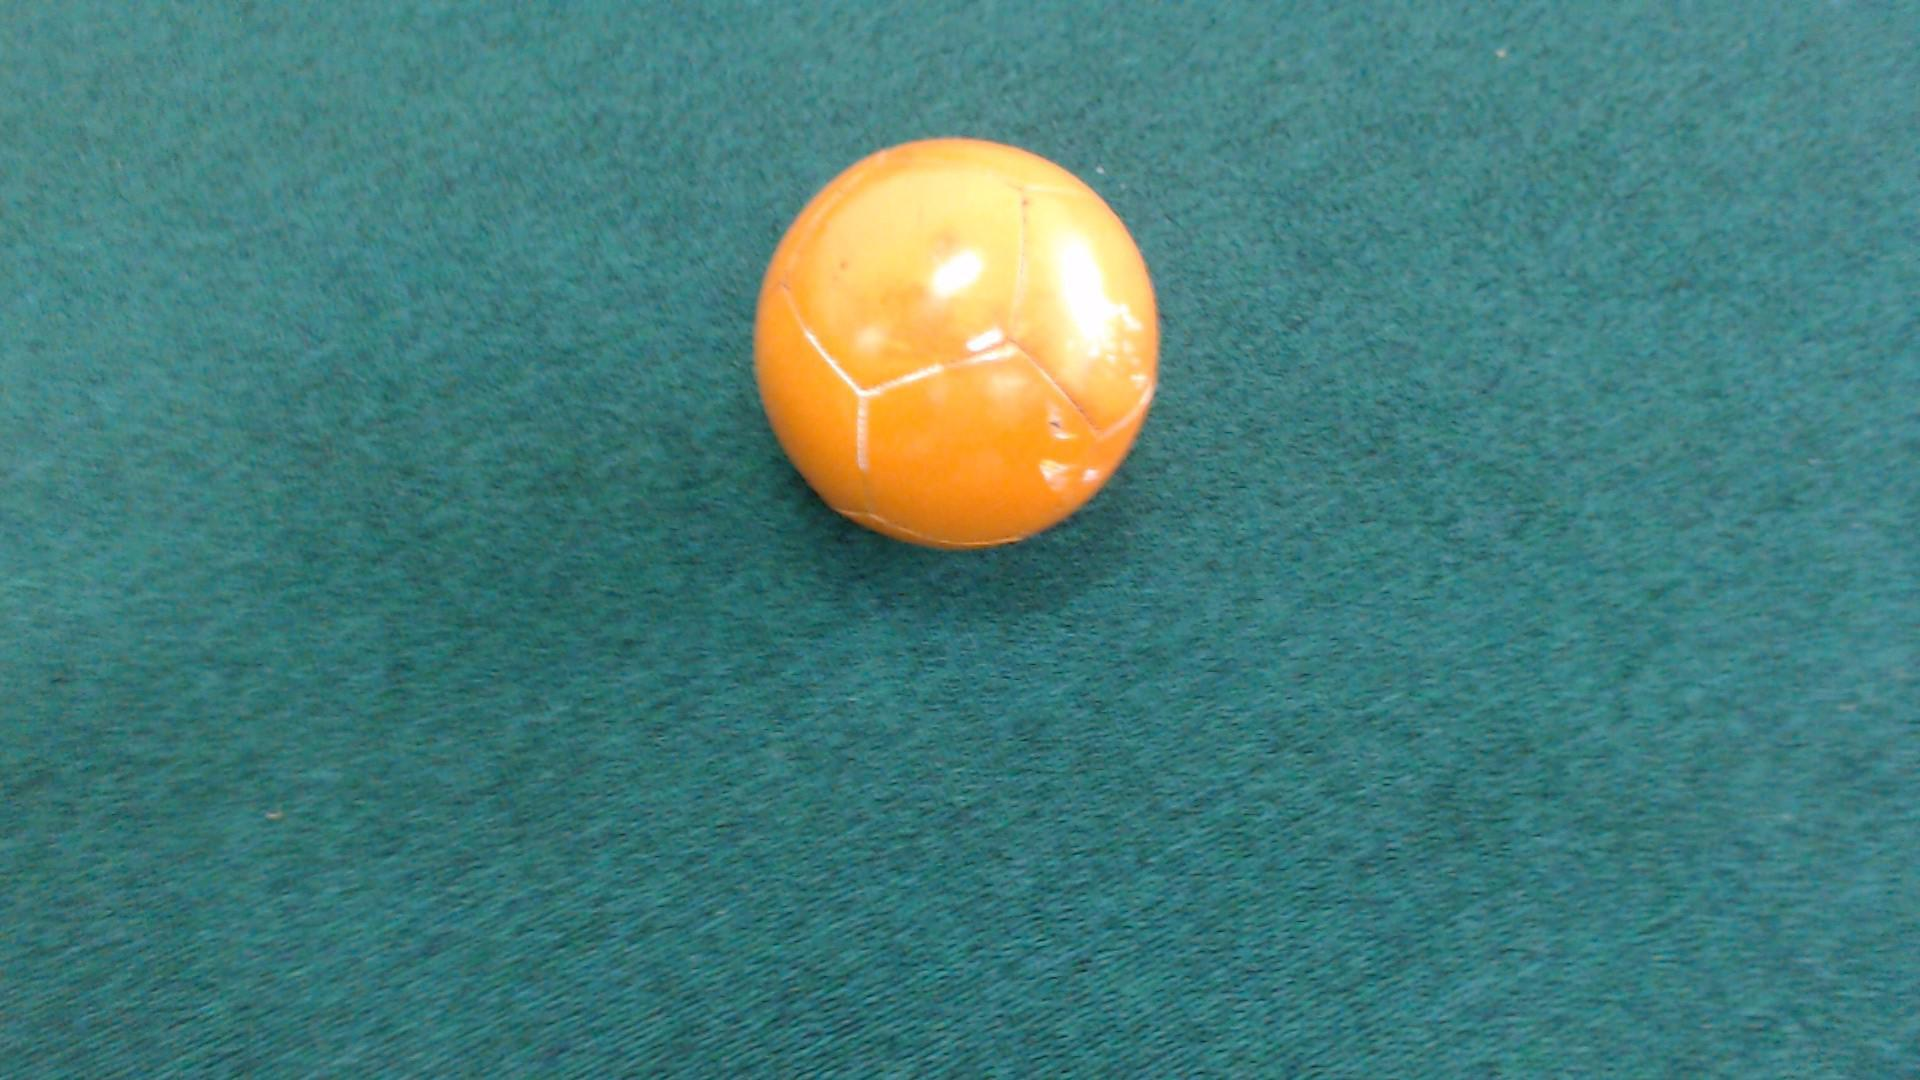bola: (728, 88, 1197, 588)
